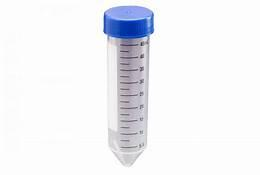Test tube: (95, 9, 162, 173)
